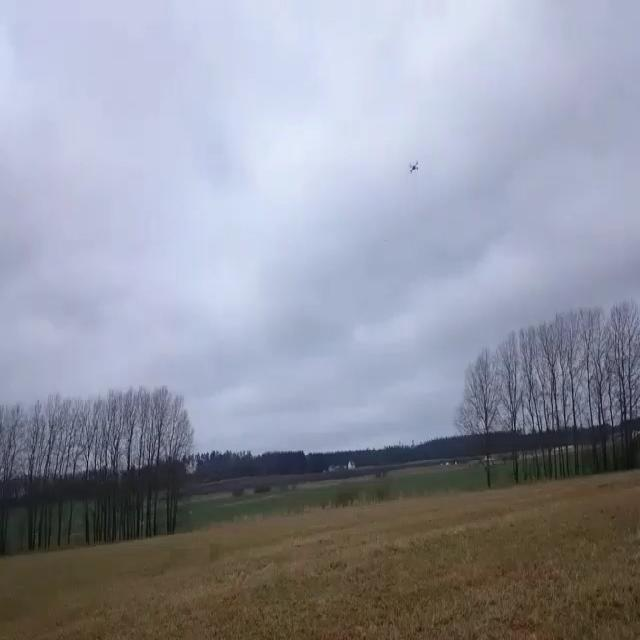drone: (408, 160, 419, 173)
